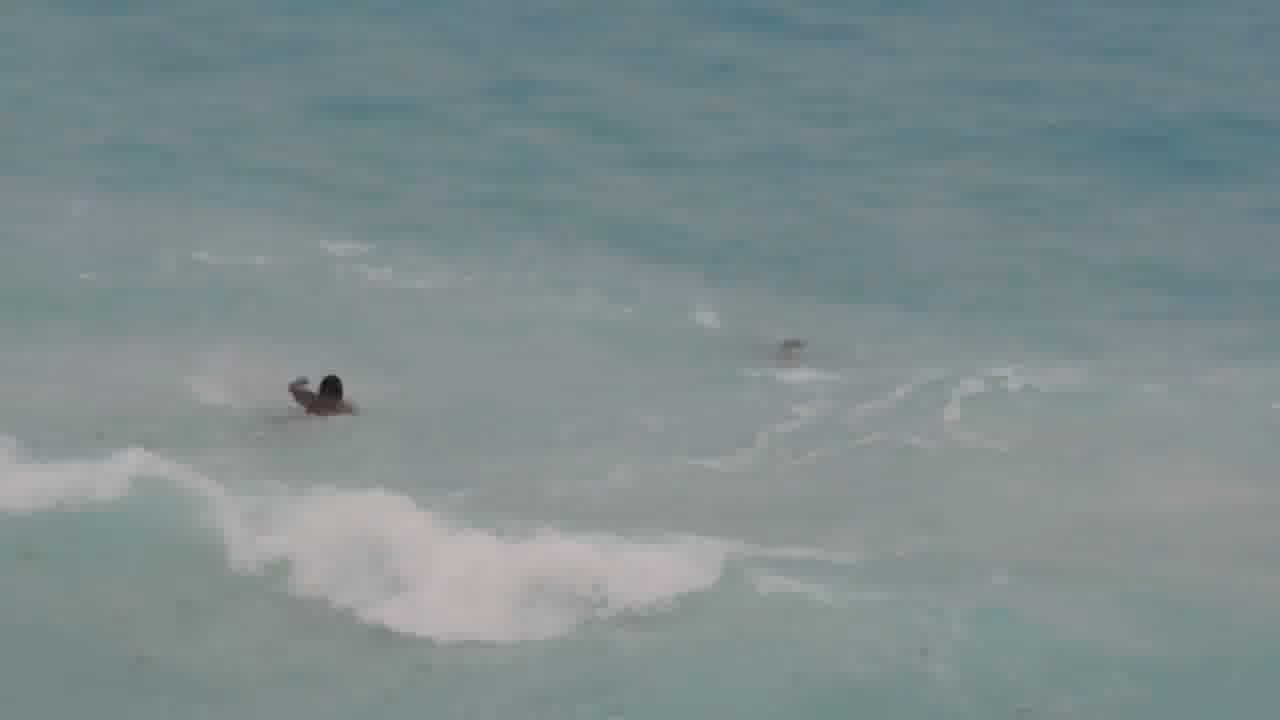swimmer: (307, 365, 355, 418), (774, 324, 810, 369)
